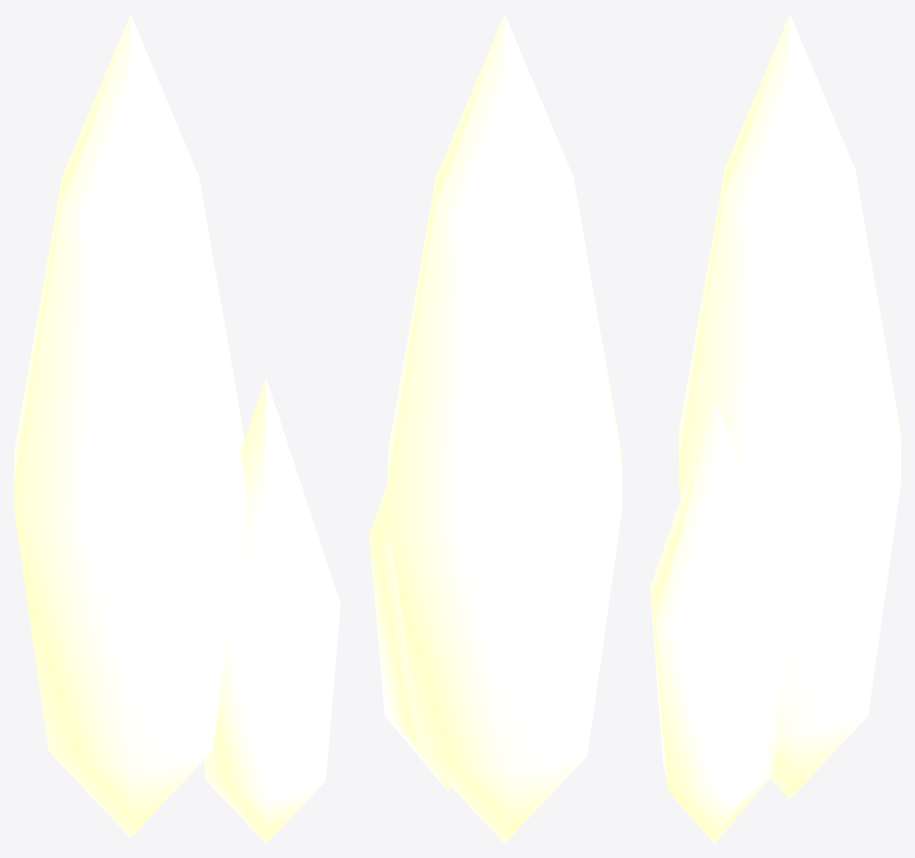
The model's file is sunshard.glb.
3 renders of one model, left to right at view 1: azimuth 30°, elevation 25°; view 2: azimuth 150°, elevation 25°; view 3: azimuth 270°, elevation 25°, orthographic. The views are drawn at different scales.
Parts seen in each view (by area): view 1: sunshard; view 2: sunshard; view 3: sunshard.
Part boxes in pixels (x1,y1,x2,y2): sunshard: (14,14,340,843); sunshard: (369,14,621,843); sunshard: (650,14,900,843).
Size of the model in its own units: 0.4021 by 1.15 by 0.3329.
